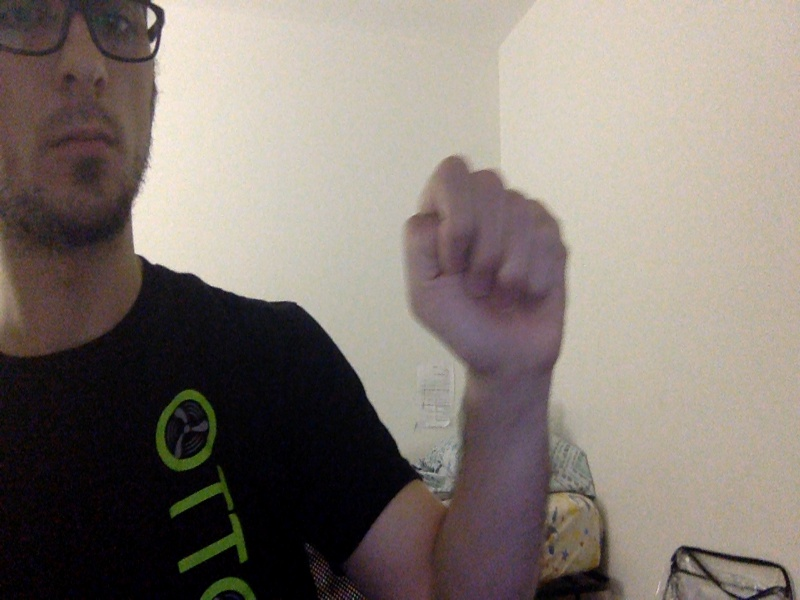0-hand: (403, 155, 568, 370)
